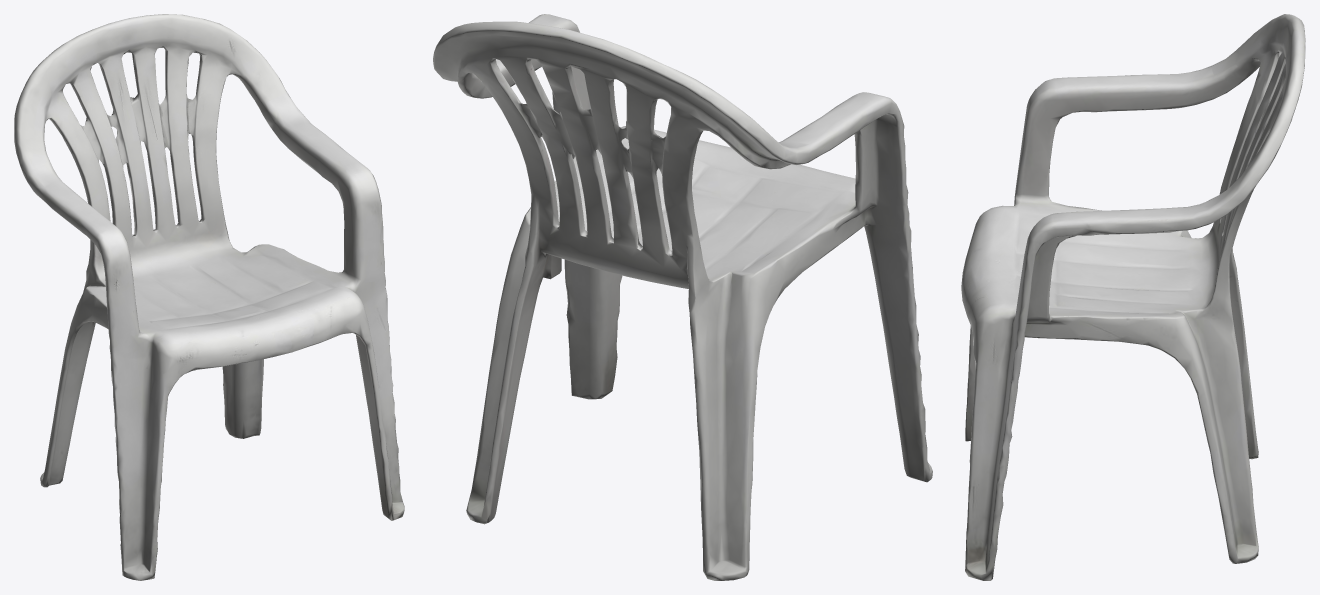
Rendered from chair_plastic.glb.
The picture shows the model from 3 angles, left to right: view 1: azimuth 30°, elevation 25°; view 2: azimuth 150°, elevation 25°; view 3: azimuth 270°, elevation 25°; orthographic projection. The views are drawn at different scales.
Visible parts, largest first — view 1: tripo_node_2d713b35-cff8-4666-ab08-ce2c89f96b3a; view 2: tripo_node_2d713b35-cff8-4666-ab08-ce2c89f96b3a; view 3: tripo_node_2d713b35-cff8-4666-ab08-ce2c89f96b3a.
Boxes of the visible parts, x1,y1,x2,y2 form: tripo_node_2d713b35-cff8-4666-ab08-ce2c89f96b3a: [14, 14, 404, 580]; tripo_node_2d713b35-cff8-4666-ab08-ce2c89f96b3a: [433, 14, 932, 580]; tripo_node_2d713b35-cff8-4666-ab08-ce2c89f96b3a: [961, 14, 1305, 580].
Size of the model in its own units: 0.6965 by 1 by 0.6694.
1 material, 1 textured.
